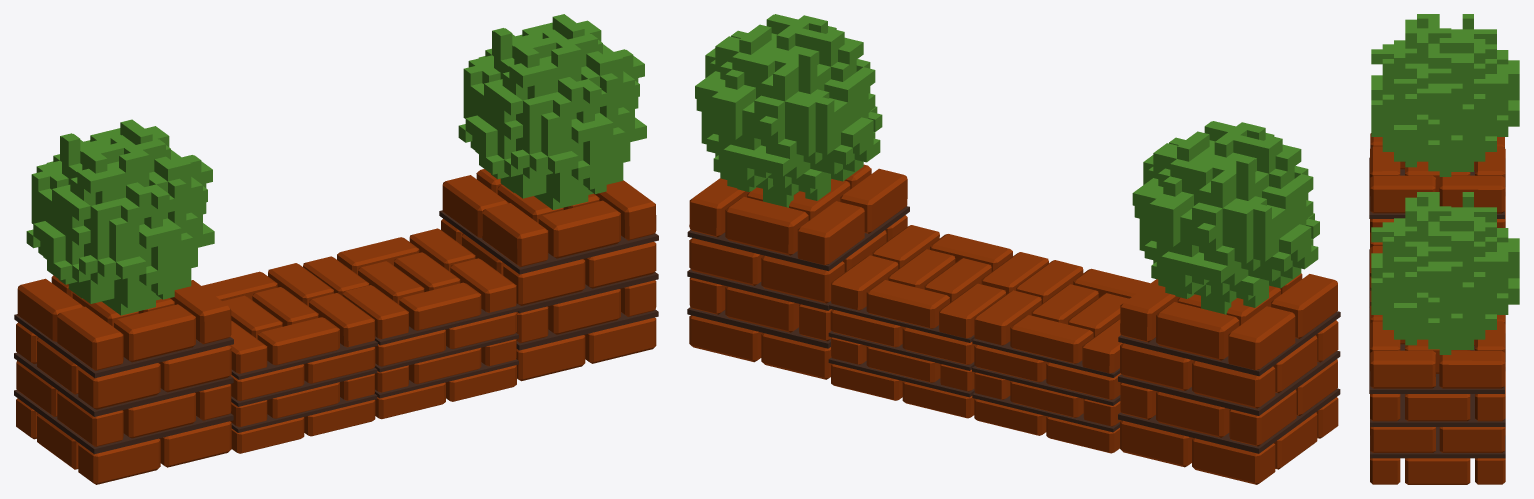
File: Obstaculos.fbx
The picture shows the model from 3 angles, left to right: view 1: azimuth 30°, elevation 25°; view 2: azimuth 150°, elevation 25°; view 3: azimuth 270°, elevation 25°; orthographic projection. The views are drawn at different scales.
Parts seen in each view (by area): view 1: Ladrillo; view 2: Ladrillo; view 3: Ladrillo.
Part boxes in pixels (x1,y1,x2,y2): Ladrillo: (14, 14, 658, 484); Ladrillo: (687, 14, 1340, 484); Ladrillo: (1369, 14, 1519, 484).
Size of the model in its own units: 819 by 405 by 216.
